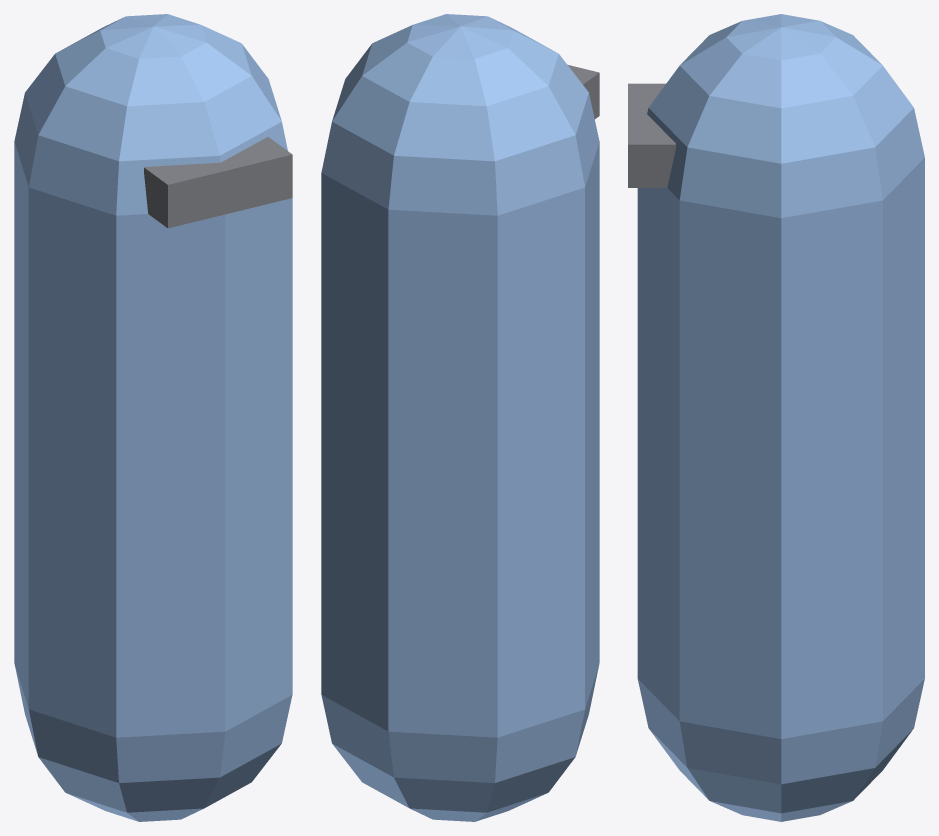
File: player_scale_ref.glb
3 views of the same model, side by side, from view 1: azimuth 30°, elevation 25°; view 2: azimuth 150°, elevation 25°; view 3: azimuth 270°, elevation 25° (orthographic).
Parts seen in each view (by area): view 1: player_scale_ref_player, player_scale_ref_dark; view 2: player_scale_ref_player, player_scale_ref_dark; view 3: player_scale_ref_player, player_scale_ref_dark.
Boxes of the visible parts, x1,y1,x2,y2 form: player_scale_ref_player: (14,14,292,821); player_scale_ref_dark: (144,137,292,228); player_scale_ref_player: (321,14,599,821); player_scale_ref_dark: (567,64,599,119); player_scale_ref_player: (637,14,924,821); player_scale_ref_dark: (628,83,675,187).
Size of the model in its own units: 0.6 by 1.8 by 0.62.
